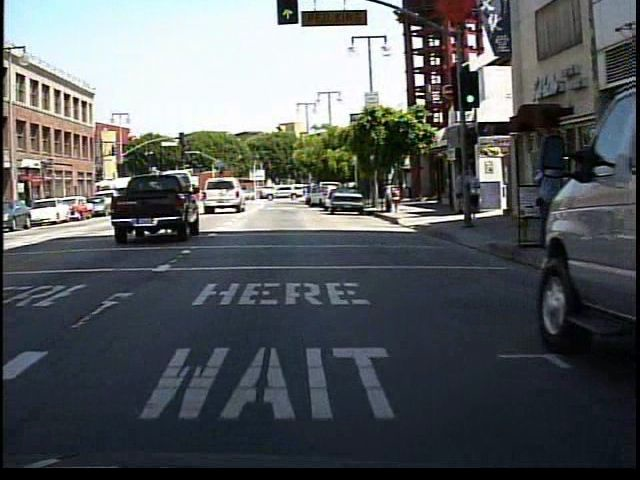person: (460, 161, 483, 228)
